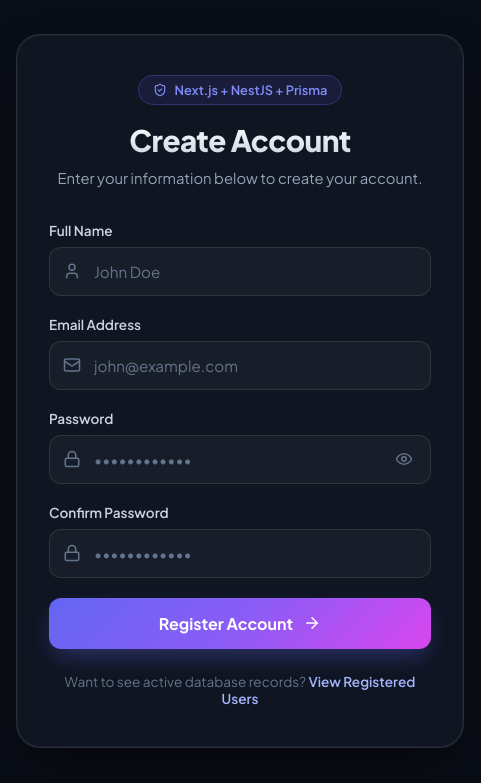
Test case: RegistrationForm Component › shows error when confirm password does not match password
The image size is (481, 783).
Type "Alex Morgan" into the field labelled "Full Name". click: (240, 271)
box: [49, 247, 431, 296]
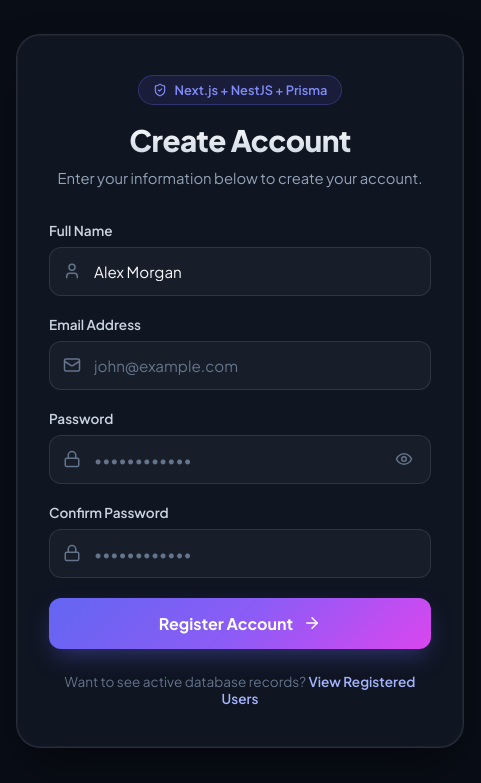
Type "alex@example.com" into the field labelled "Email Address". click: (240, 365)
box: [49, 341, 431, 390]
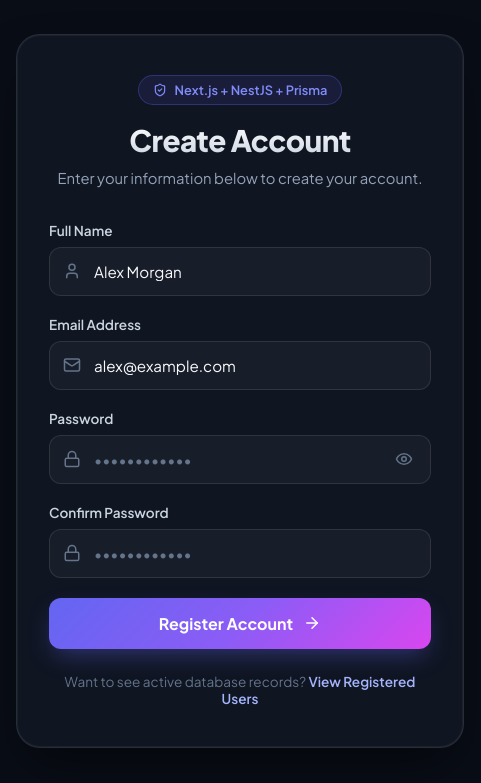
Type "secret123" into the password field labelled "Password". click: (240, 459)
box: [49, 435, 431, 484]
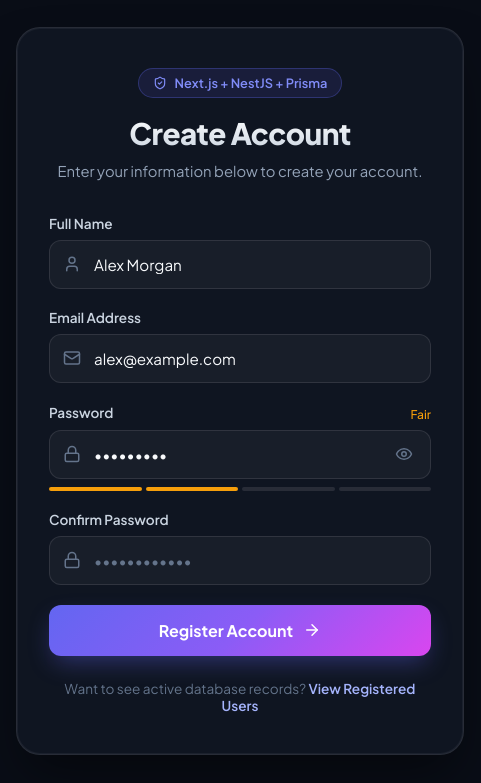
Type "mismatch123" into the password field labelled "Confirm Password". click: (240, 560)
box: [49, 536, 431, 585]
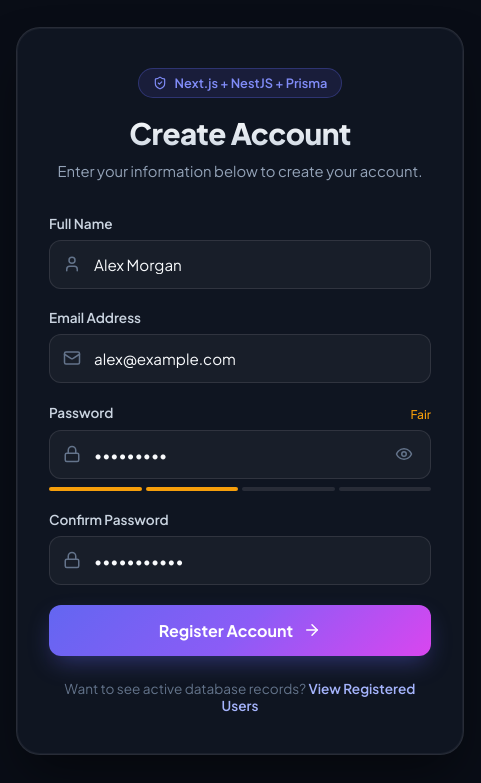
Click the button "Register Account". click: (240, 630)
box: [49, 605, 431, 656]
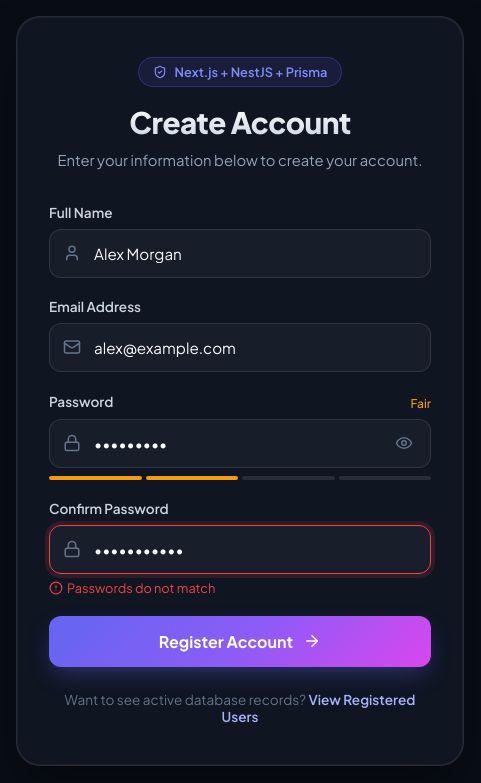
Result: the text "Passwords do not match" is shown at [49, 580, 215, 596]
